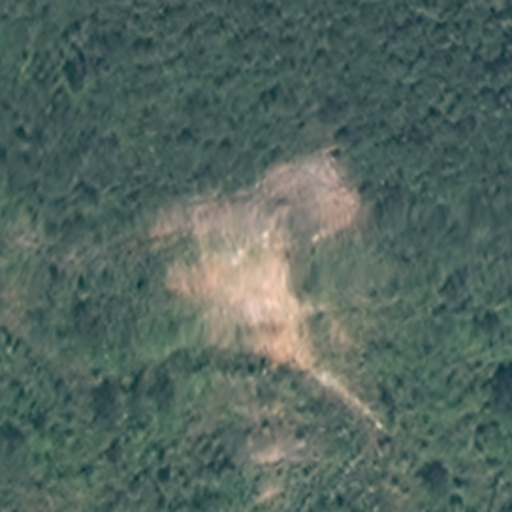landslide: (146, 157, 380, 410)
